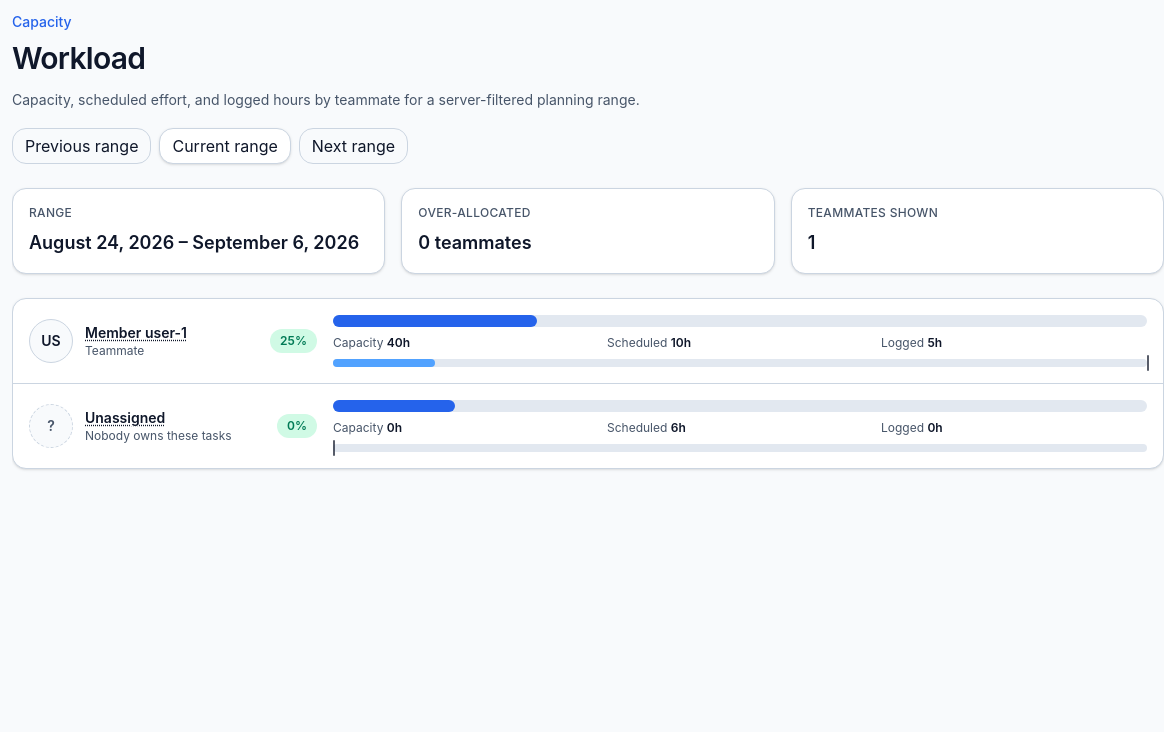
Test case: WorkloadPageClient › shows an Unassigned row when unassigned tasks exist, and links it to a filtered task list
The width and height of the screenshot is (1164, 732).
Expected: the text "Nobody owns these tasks" is shown, [85,428,232,444]
Click the button with aria-label "view tasks for unassigned" at x=173, y=426, box [29,400,317,452]
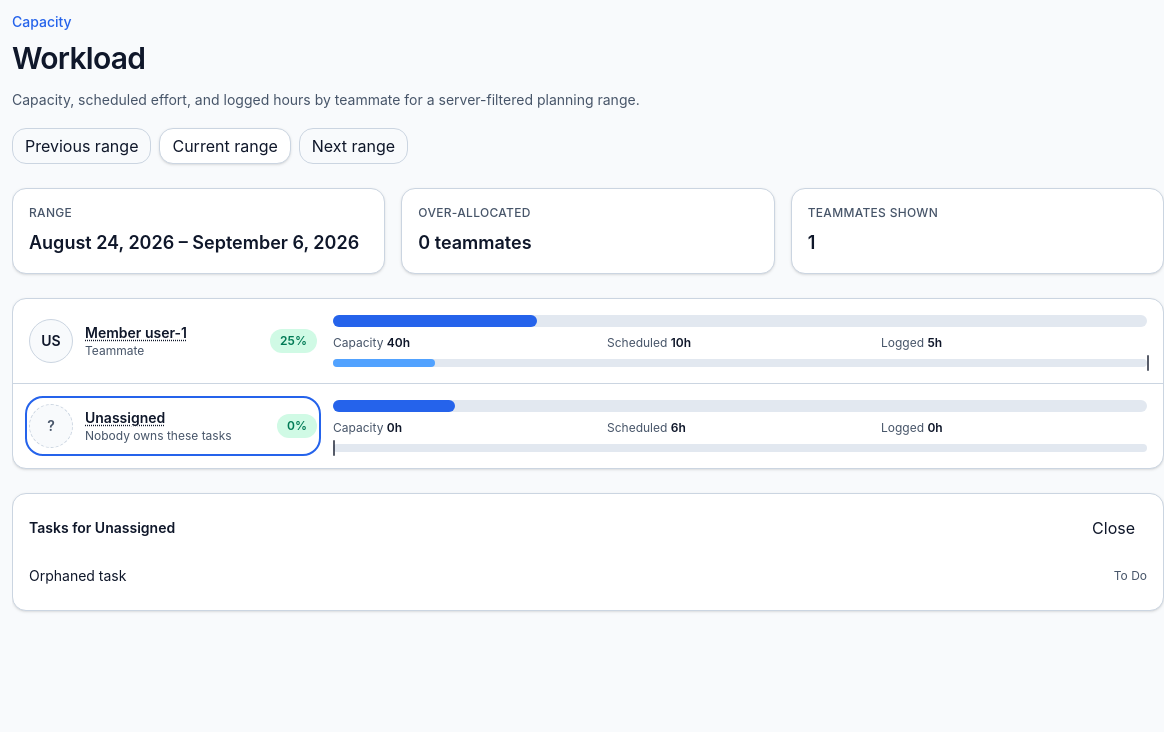
Expected: the text "Orphaned task" is shown, [29,566,126,586]
